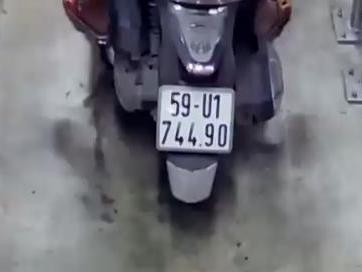num_plate: (157, 85, 234, 154)
